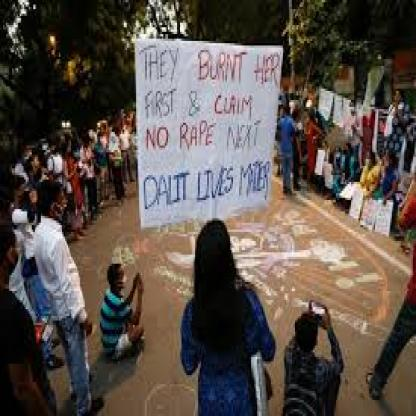BANNER: (135, 39, 283, 232)
